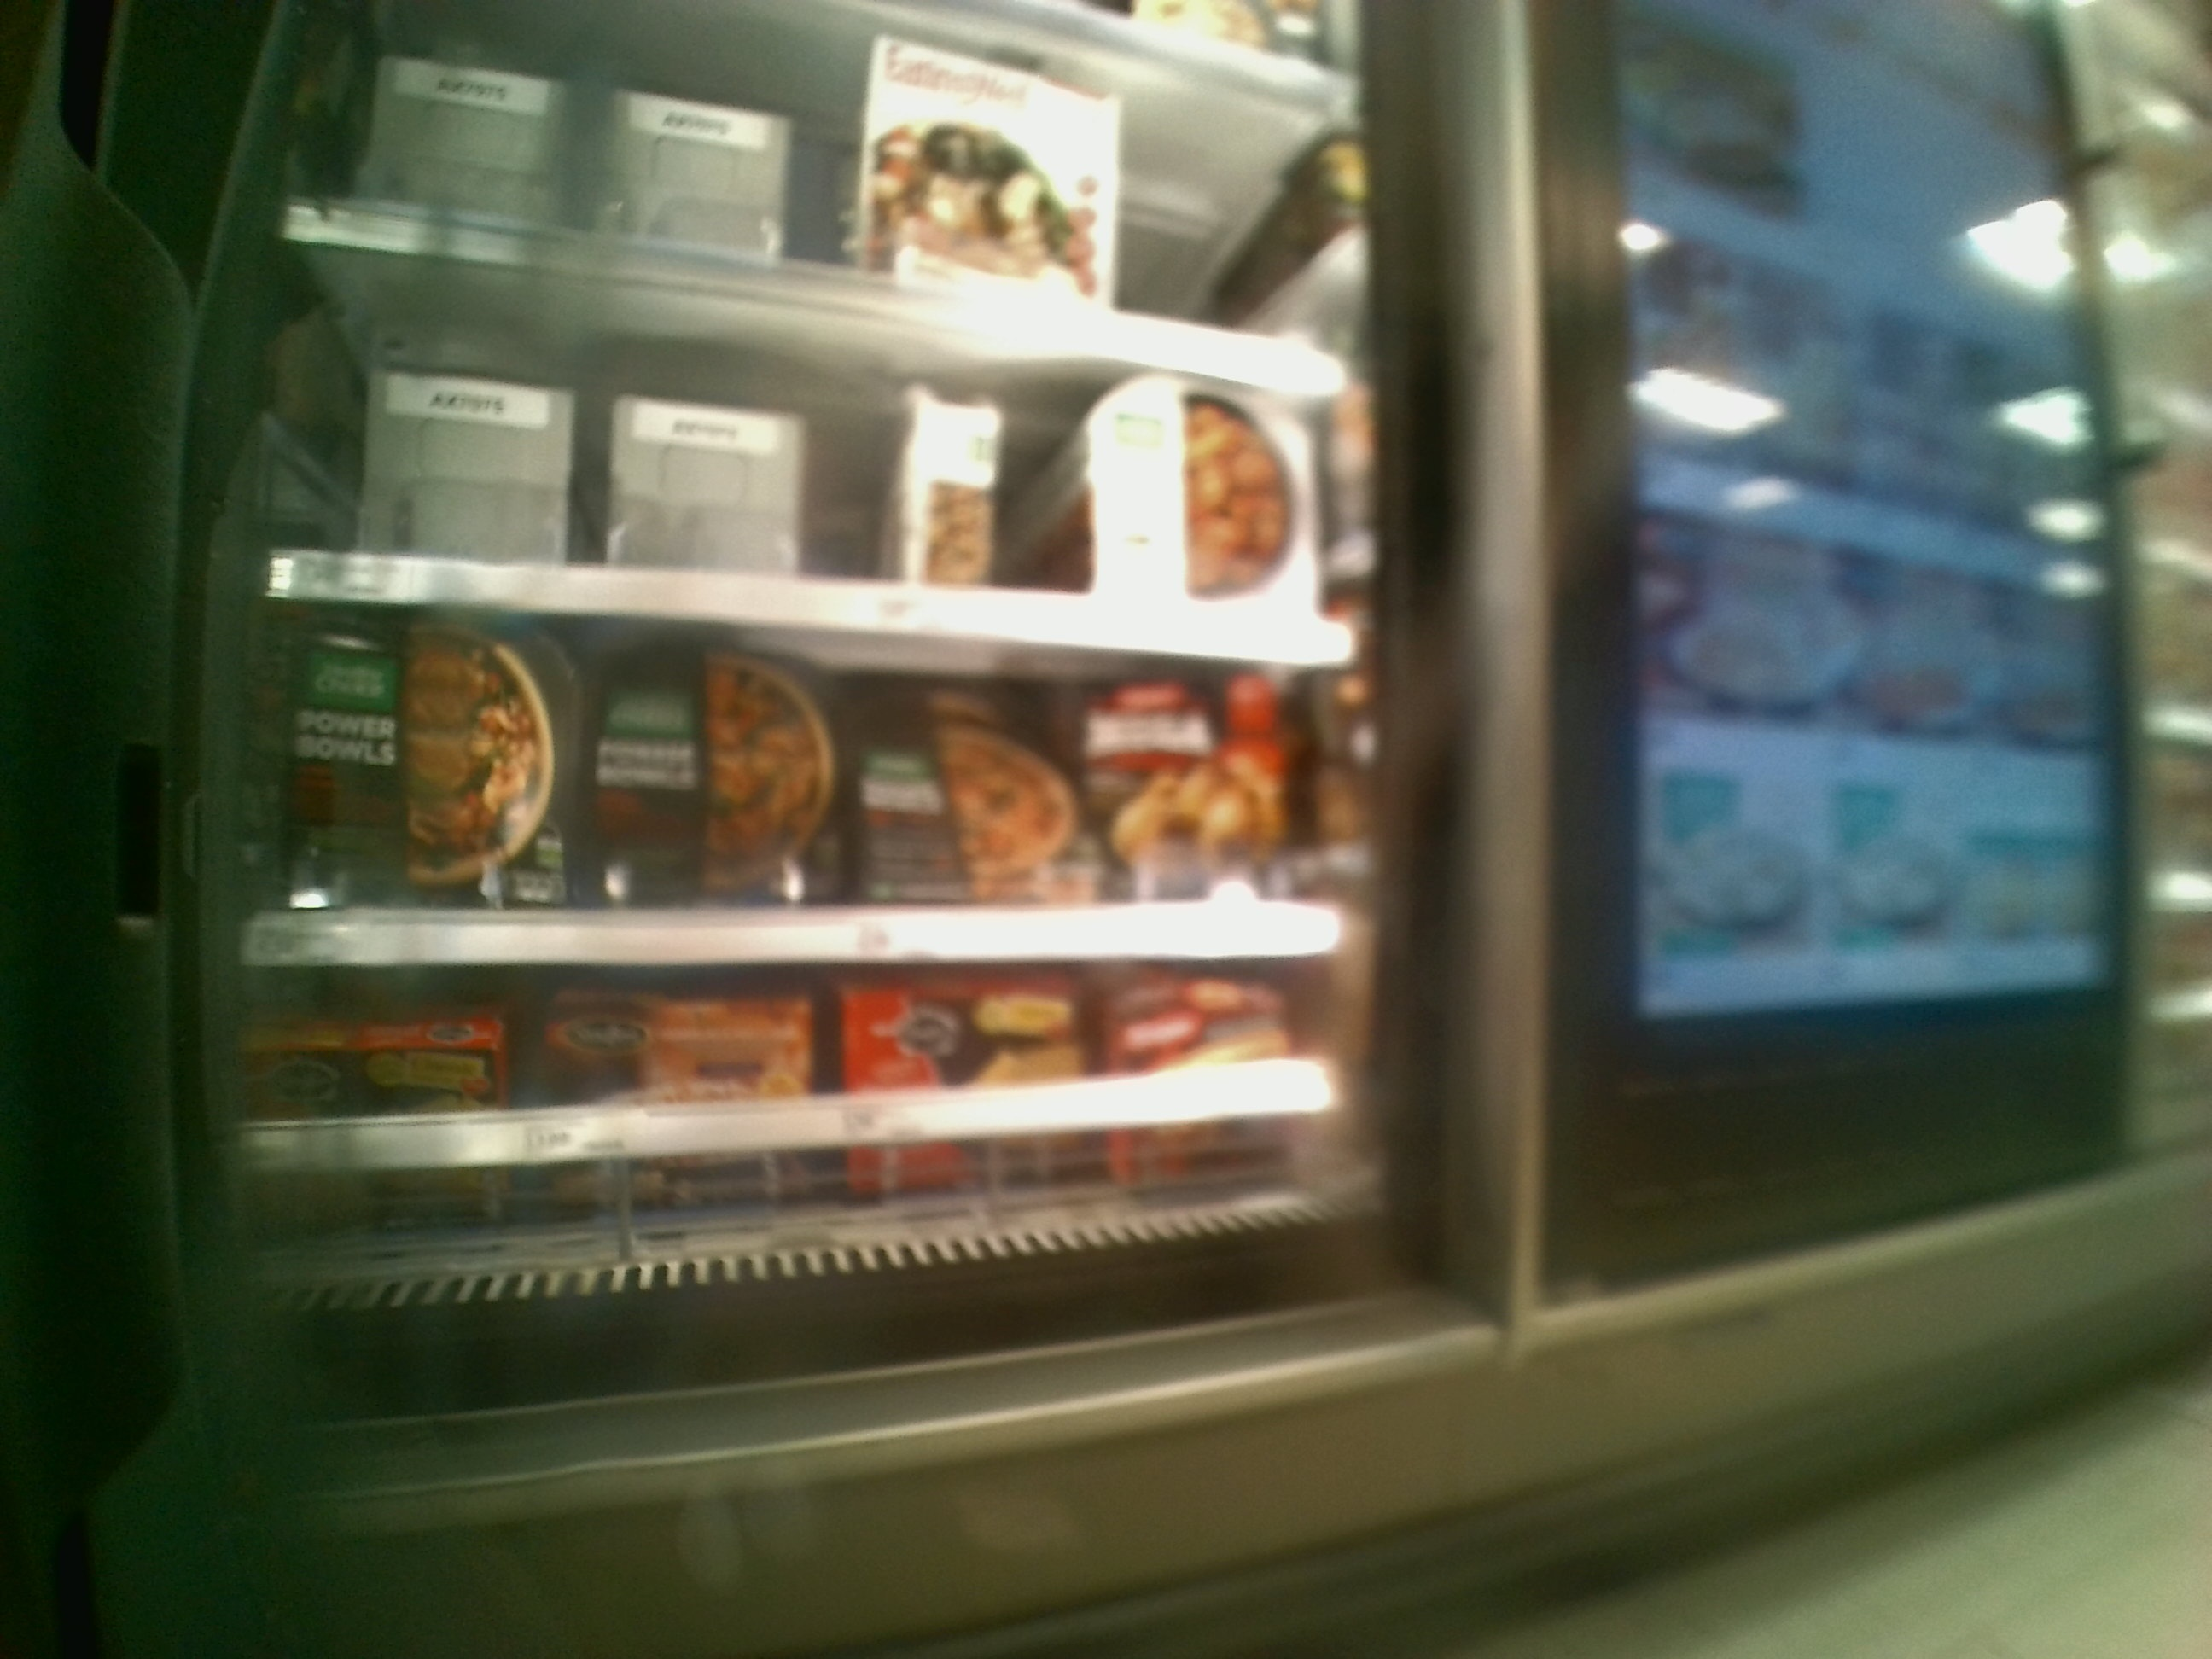Shelf: (249, 587, 1360, 964), (240, 962, 1390, 1316)
